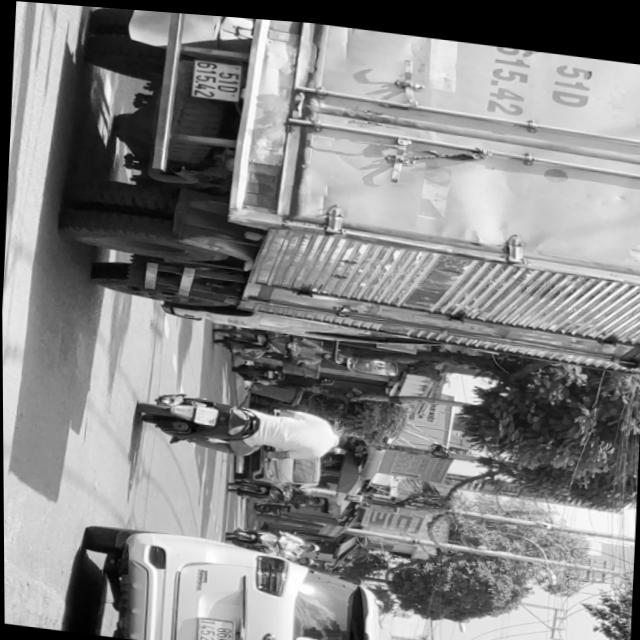licenseplate: (137, 381, 373, 467)
motorcyclist: (333, 426, 370, 450)
nohelmet: (194, 402, 218, 422)
